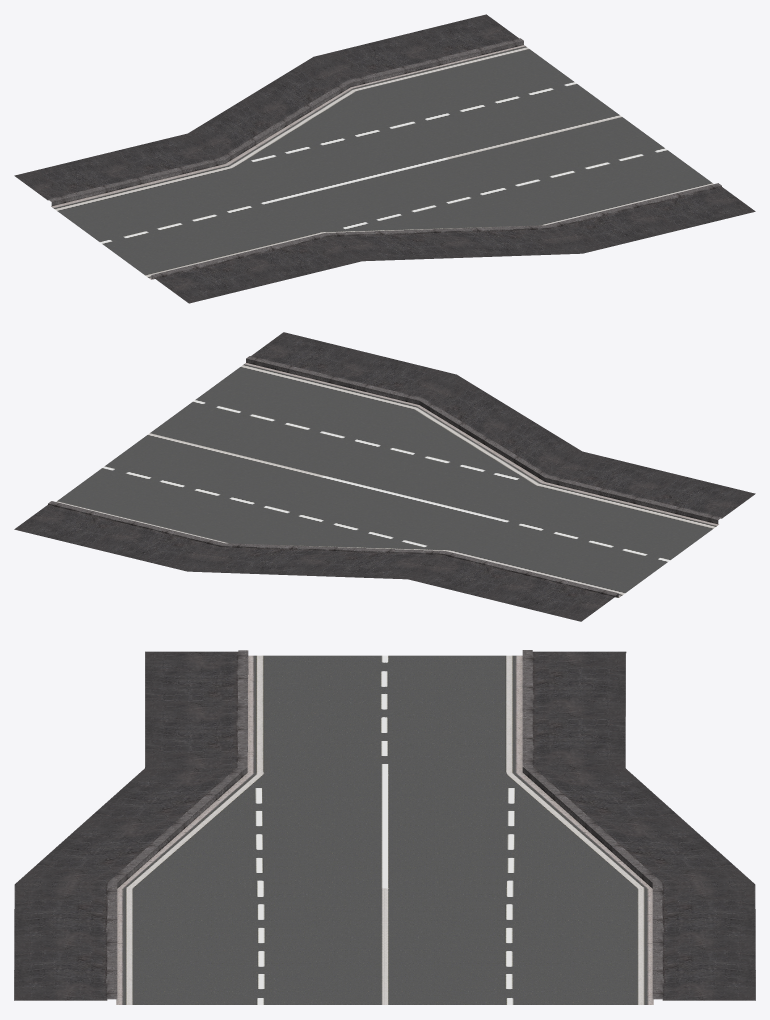
The model's file is 2 to 4 line entrance_mobile.FBX.
3 views of the same model, one above another, from view 1: azimuth 30°, elevation 25°; view 2: azimuth 150°, elevation 25°; view 3: azimuth 270°, elevation 25° (orthographic). The views are drawn at different scales.
Parts seen in each view (by area): view 1: Plane252; view 2: Plane252; view 3: Plane252.
Boxes of the visible parts, bbox=[...] form: Plane252: bbox=[14, 14, 755, 303]; Plane252: bbox=[14, 332, 755, 621]; Plane252: bbox=[14, 650, 755, 1004].
Size of the model in its own units: 36.01 by 0.3184 by 32.31.
